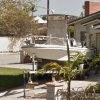Boat: (17, 33, 91, 65)
